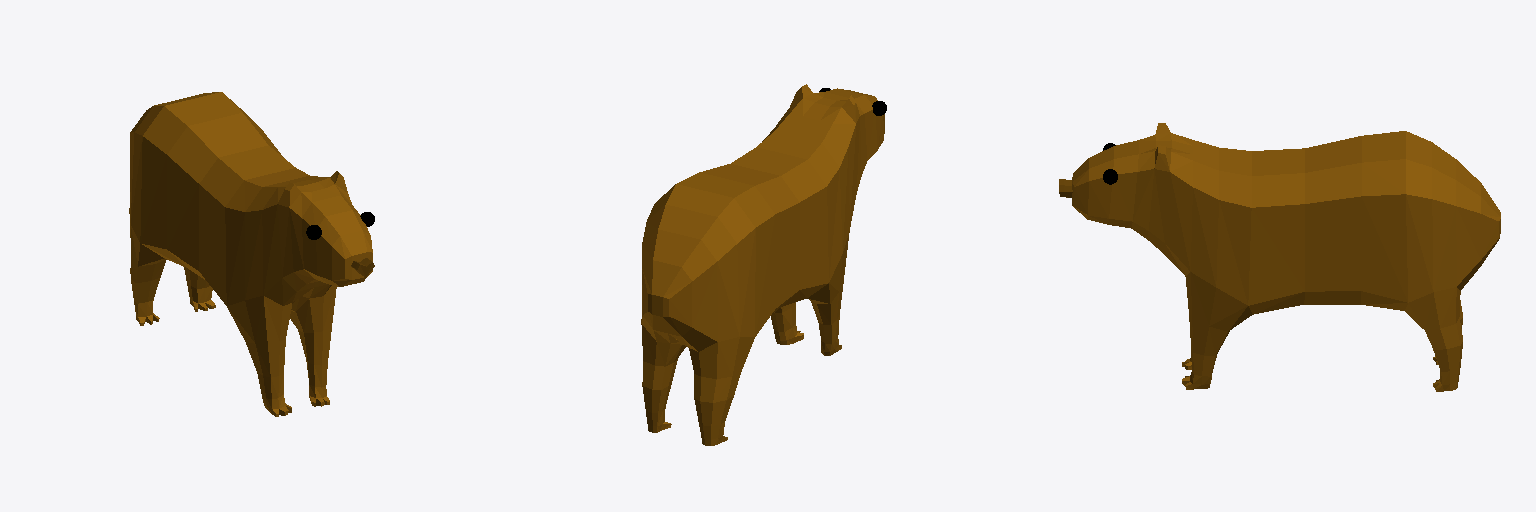
The picture shows the model from 3 angles: view 1: azimuth 30°, elevation 25°; view 2: azimuth 150°, elevation 25°; view 3: azimuth 270°, elevation 25°; orthographic projection.
Parts seen in each view (by area): view 1: Body; view 2: Body; view 3: Body.
Part boxes in pixels (x1,y1,x2,y2): Body: (129, 92, 372, 416); Body: (641, 84, 884, 445); Body: (1072, 123, 1500, 391).
Size of the model in its own units: 1.23 by 2.79 by 4.58.
3 materials, 2 textured.